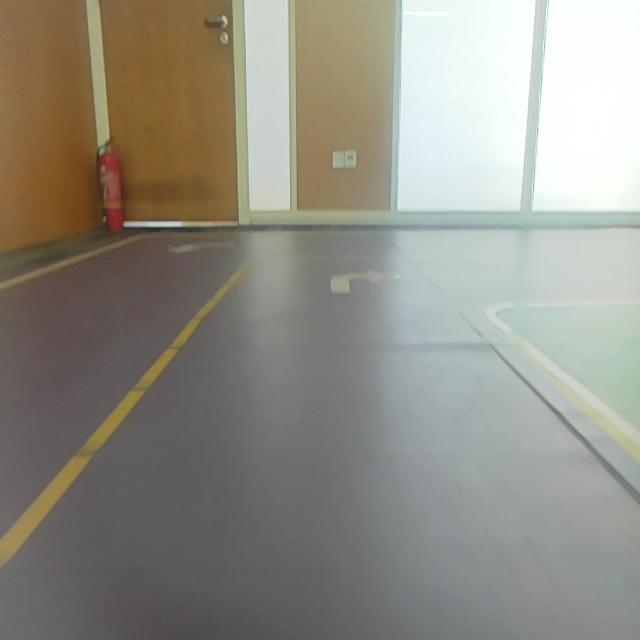left_lane: (0, 263, 246, 570)
